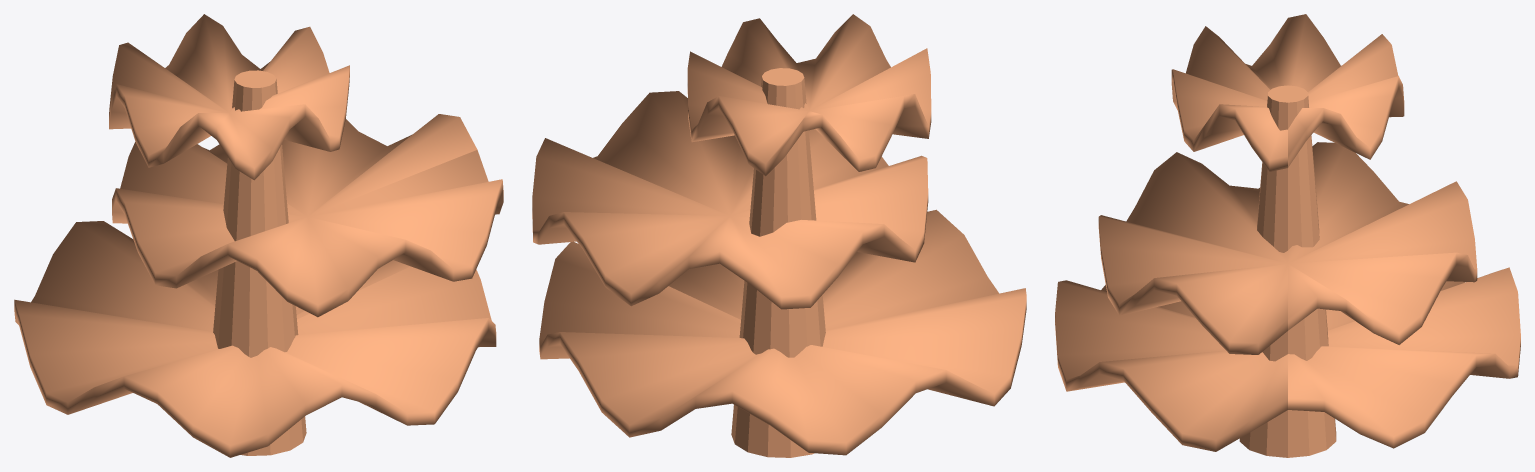
Rendered from underwater-reef-worlds-stacked-plate-coral-97512efb__6993.glb.
3 renders of one model, left to right at view 1: azimuth 30°, elevation 25°; view 2: azimuth 150°, elevation 25°; view 3: azimuth 270°, elevation 25°, orthographic. The views are drawn at different scales.
Parts seen in each view (by area): view 1: stacked-plate-coral; view 2: stacked-plate-coral; view 3: stacked-plate-coral.
Part boxes in pixels (bbox=[...]): stacked-plate-coral: bbox=[14, 14, 503, 457]; stacked-plate-coral: bbox=[532, 14, 1026, 457]; stacked-plate-coral: bbox=[1055, 14, 1520, 457].
Bounding box in the file's own units: 1.65 × 1.38 × 1.6.
